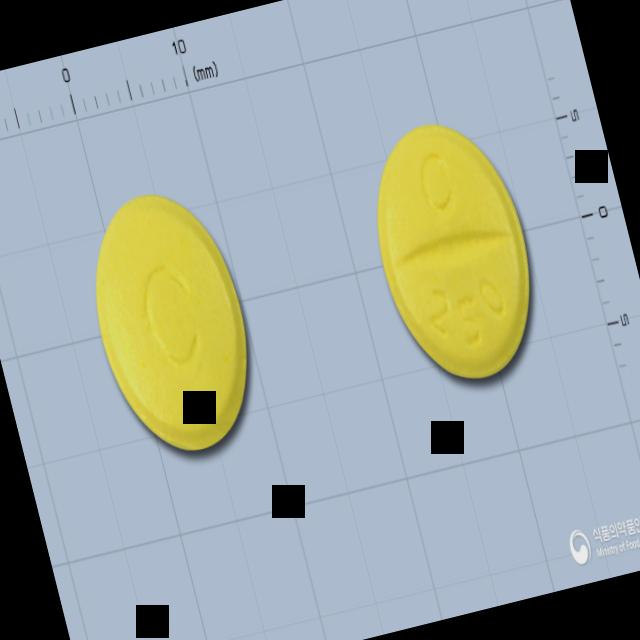C-Clarin: (65, 172, 278, 474)
